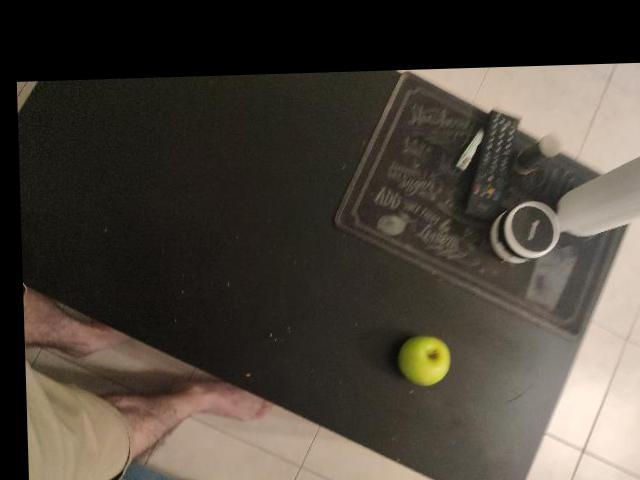apple: (353, 307, 456, 389)
